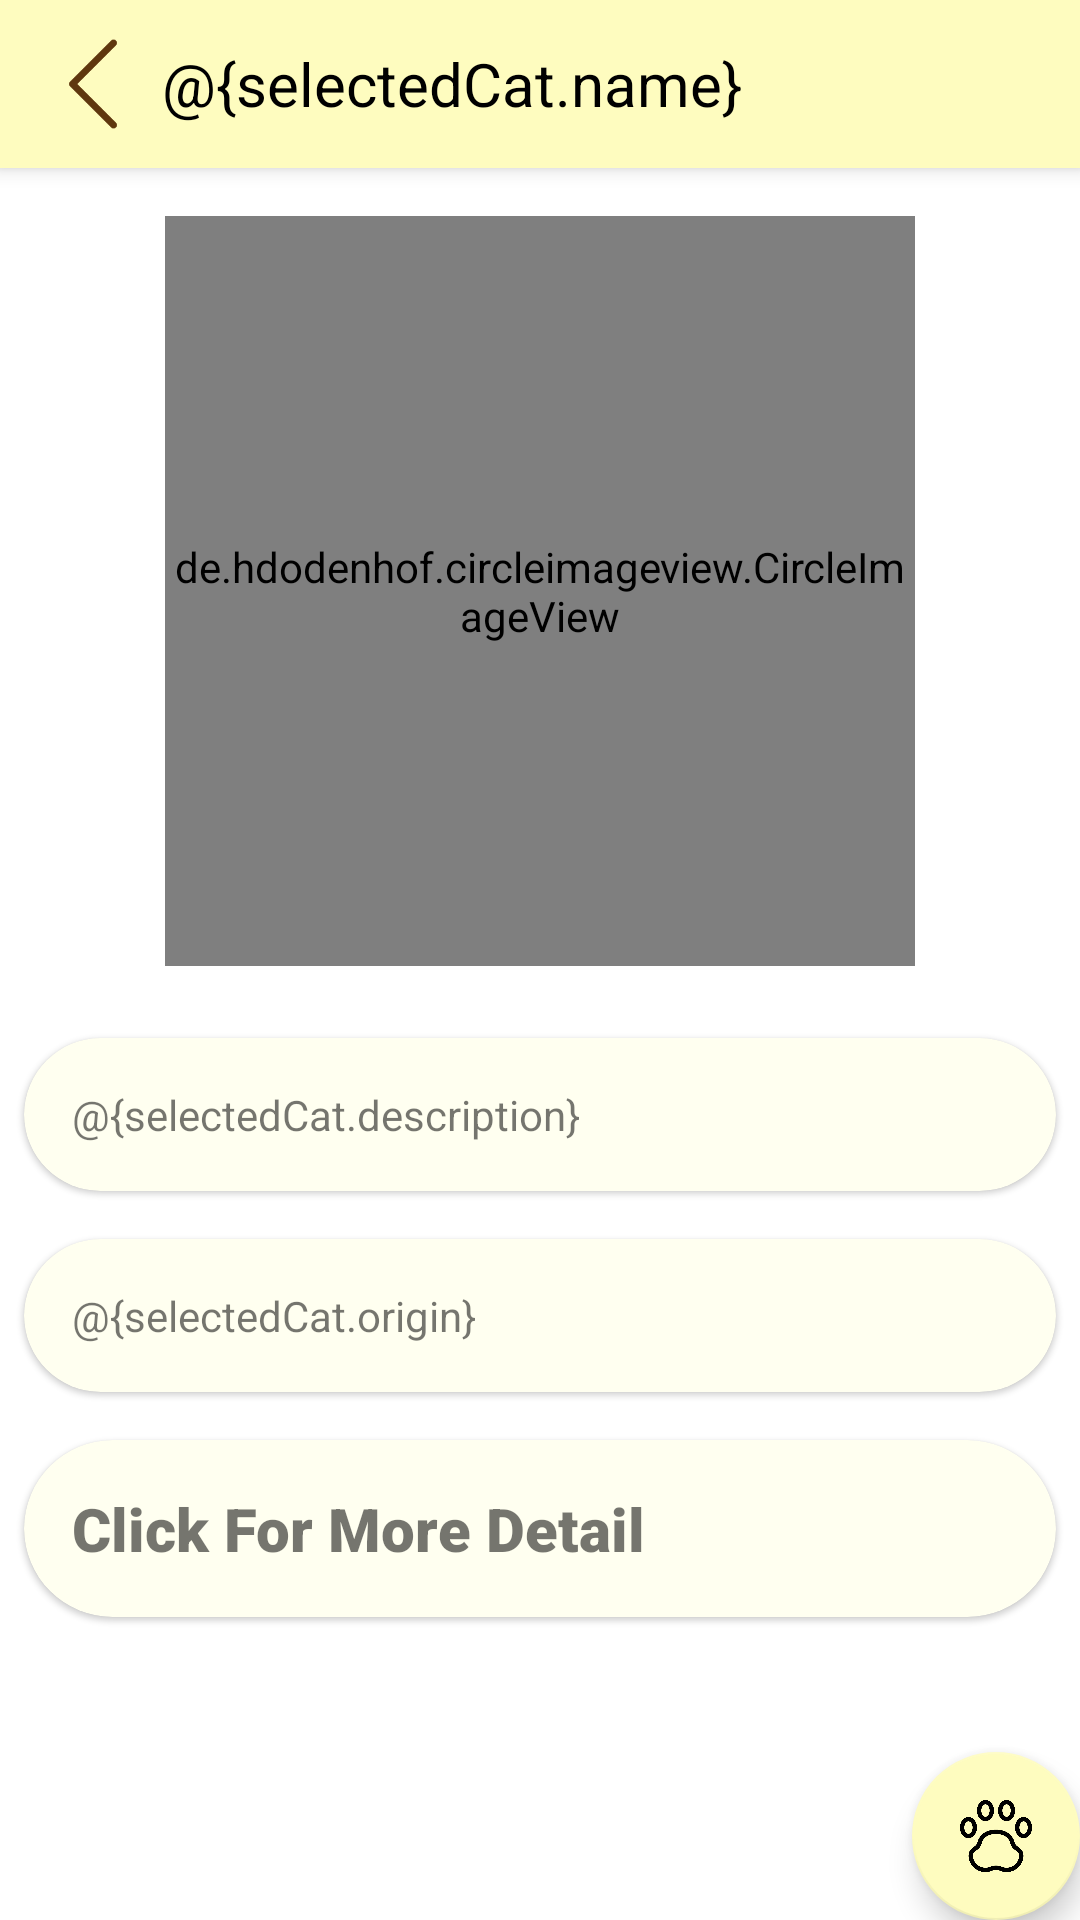

Where to tap for icons on this 1080x1920 app screen, as (x=x, y=y):
back: (x=93, y=84)
paw: (x=996, y=1836)
